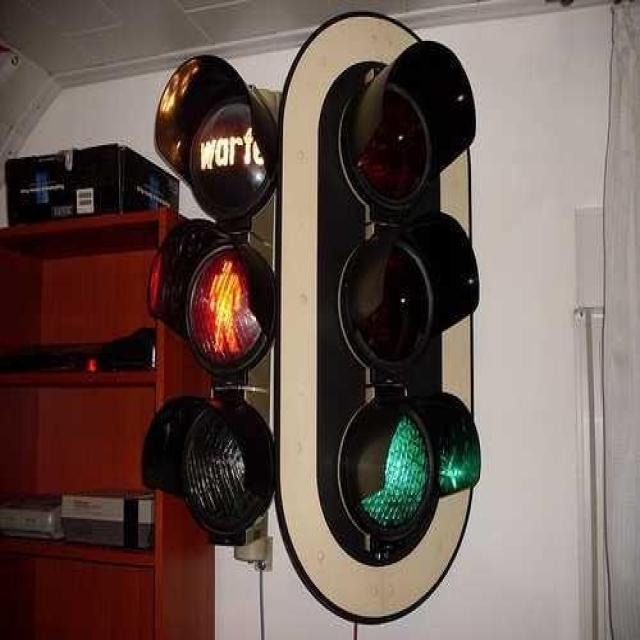Traffic Light -Green-: (304, 36, 478, 572)
